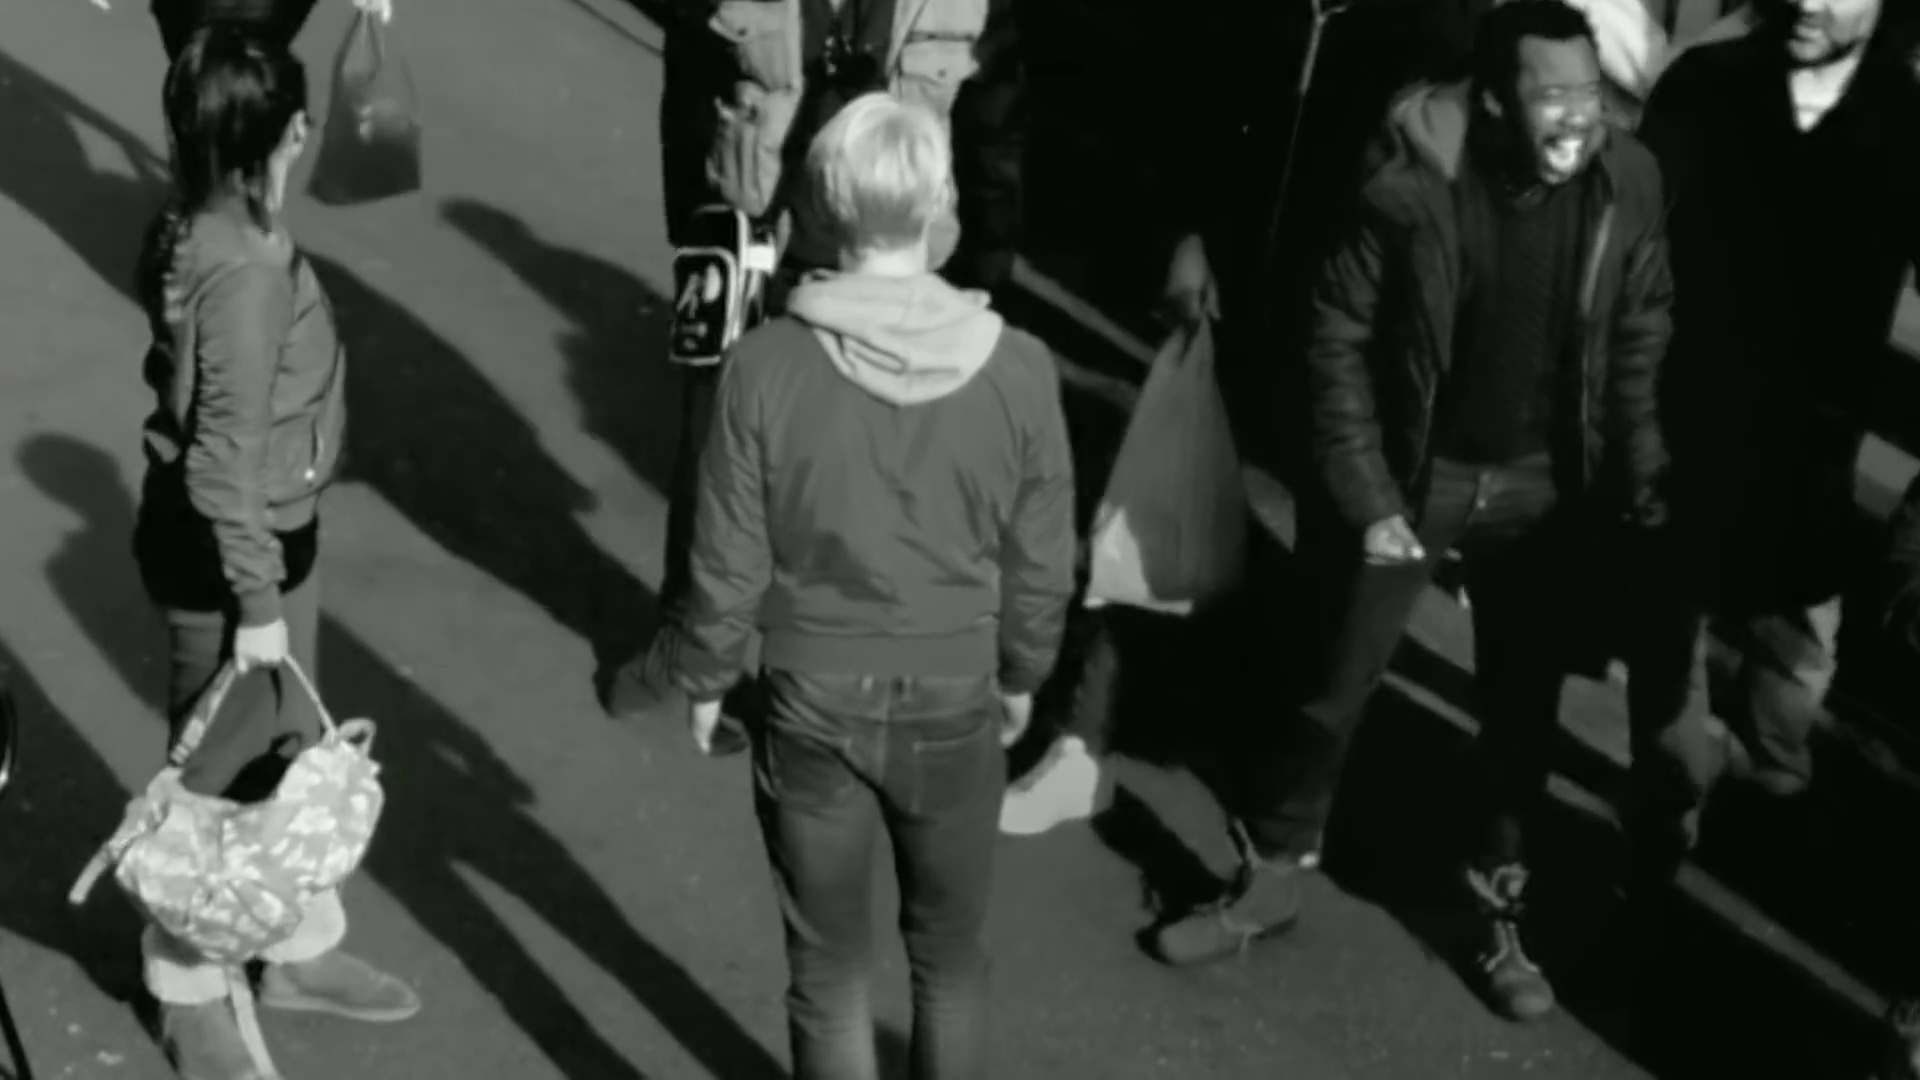face: (1511, 44, 1612, 175)
